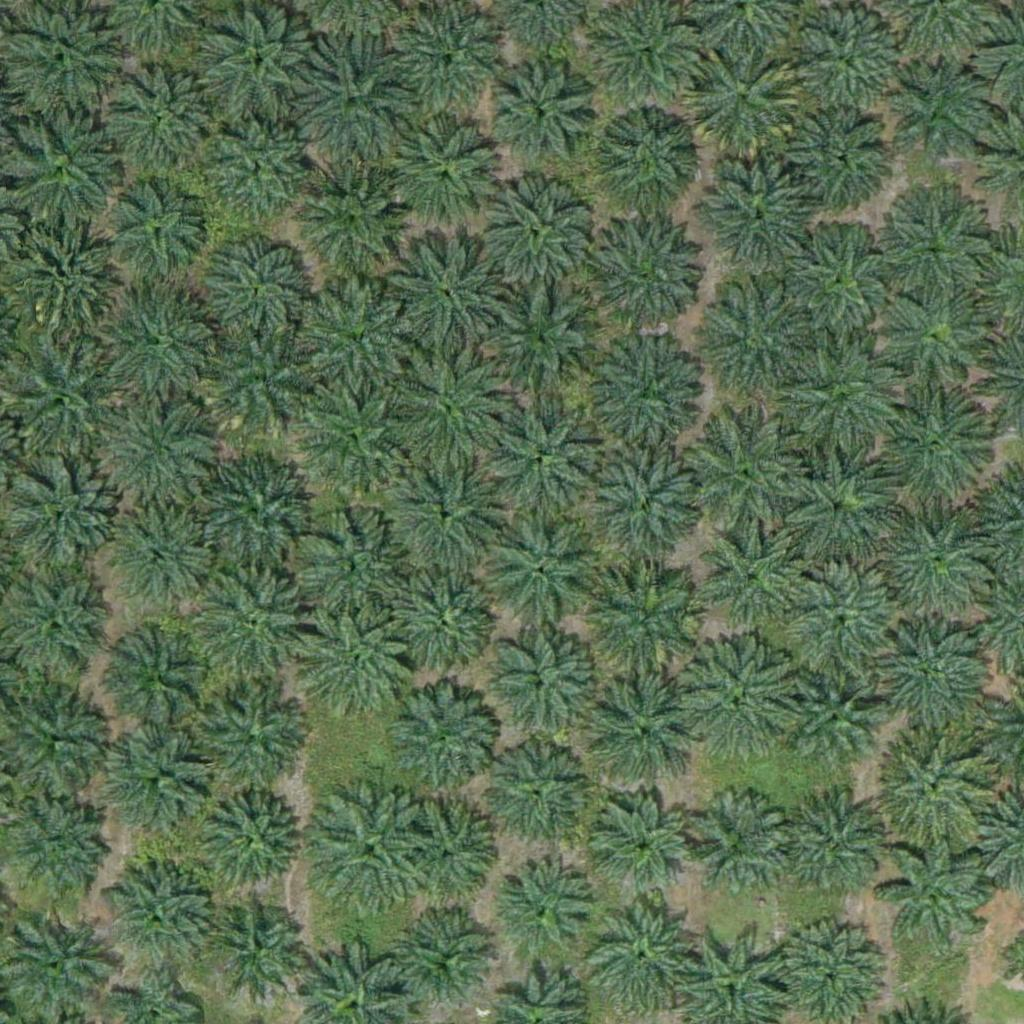Kelapa_Sawit: (287, 45, 412, 171), (198, 8, 323, 134), (873, 184, 998, 310), (780, 220, 905, 346), (9, 206, 134, 332), (95, 396, 220, 522), (96, 286, 221, 412), (193, 449, 318, 575), (189, 560, 314, 686), (297, 605, 422, 731), (290, 507, 415, 633), (382, 344, 507, 470), (384, 448, 509, 574), (380, 555, 505, 681), (376, 676, 501, 802), (478, 626, 603, 752), (478, 509, 603, 635), (585, 212, 710, 338), (588, 330, 713, 456), (584, 556, 709, 682), (583, 672, 708, 798), (681, 412, 806, 538), (688, 280, 813, 406), (693, 152, 818, 278), (777, 343, 902, 469), (771, 446, 896, 572), (779, 568, 904, 694), (866, 619, 991, 745), (874, 505, 999, 631), (869, 384, 994, 510), (580, 892, 705, 1018), (305, 787, 430, 913), (683, 45, 808, 170), (383, 230, 508, 355), (484, 392, 609, 517), (484, 280, 609, 405), (584, 443, 709, 568), (679, 639, 804, 764), (112, 68, 225, 182), (880, 62, 993, 175), (792, 2, 905, 115), (204, 114, 317, 227), (297, 278, 410, 391), (199, 233, 312, 346), (206, 331, 319, 444), (880, 834, 993, 947), (103, 861, 216, 974), (397, 6, 509, 119), (7, 116, 119, 229), (105, 621, 217, 734), (297, 157, 409, 270), (194, 687, 306, 800), (393, 119, 505, 232), (881, 729, 993, 842), (787, 103, 887, 204), (597, 103, 697, 204), (492, 63, 592, 164), (107, 183, 207, 284), (305, 384, 405, 485), (487, 186, 587, 287), (704, 530, 804, 631), (785, 796, 885, 897), (684, 795, 784, 896), (594, 798, 694, 899), (482, 745, 582, 846), (494, 861, 594, 962), (396, 794, 496, 895), (117, 516, 217, 616), (885, 292, 985, 392), (399, 909, 499, 1009), (199, 789, 299, 889), (208, 897, 308, 997), (111, 733, 211, 833), (789, 678, 876, 767)
